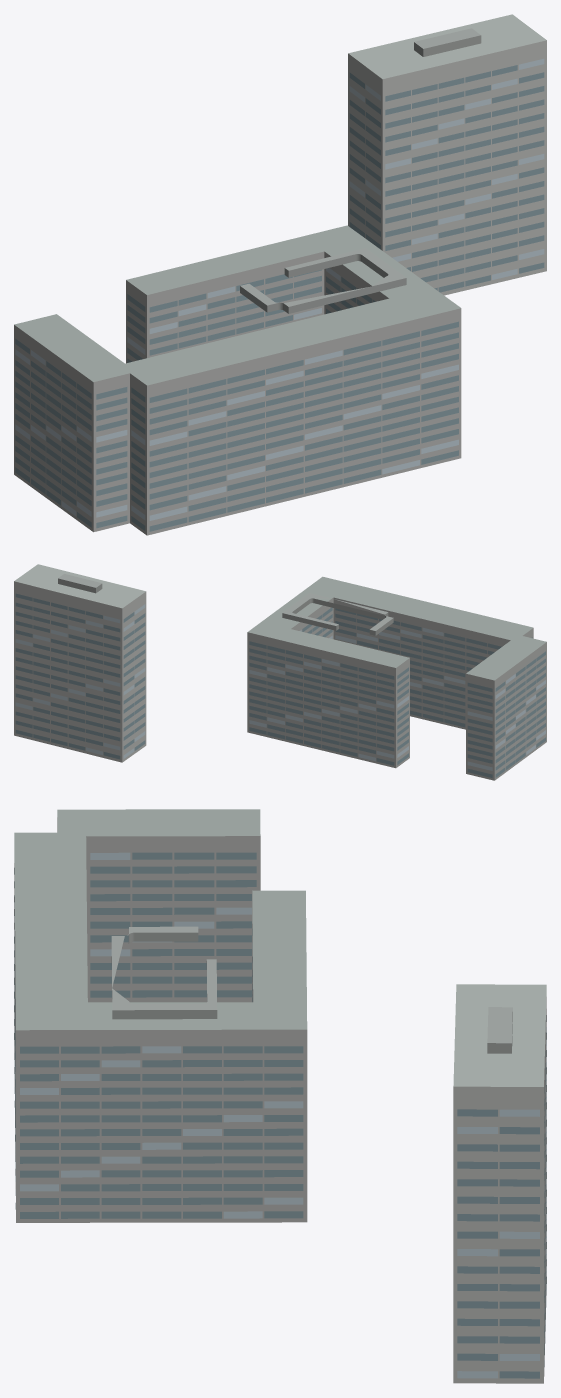
Rendered from apt-a13007002.glb.
3 views of the same model, one above another, from view 1: azimuth 30°, elevation 25°; view 2: azimuth 150°, elevation 25°; view 3: azimuth 270°, elevation 25° (orthographic). The views are drawn at different scales.
Visible parts, largest first — view 1: apt-a13007002; view 2: apt-a13007002; view 3: apt-a13007002.
Boxes of the visible parts, x1,y1,x2,y2 form: apt-a13007002: (14, 14, 546, 535); apt-a13007002: (14, 564, 546, 780); apt-a13007002: (14, 809, 546, 1383).
Bounding box in the file's own units: 187 × 70 × 110.
